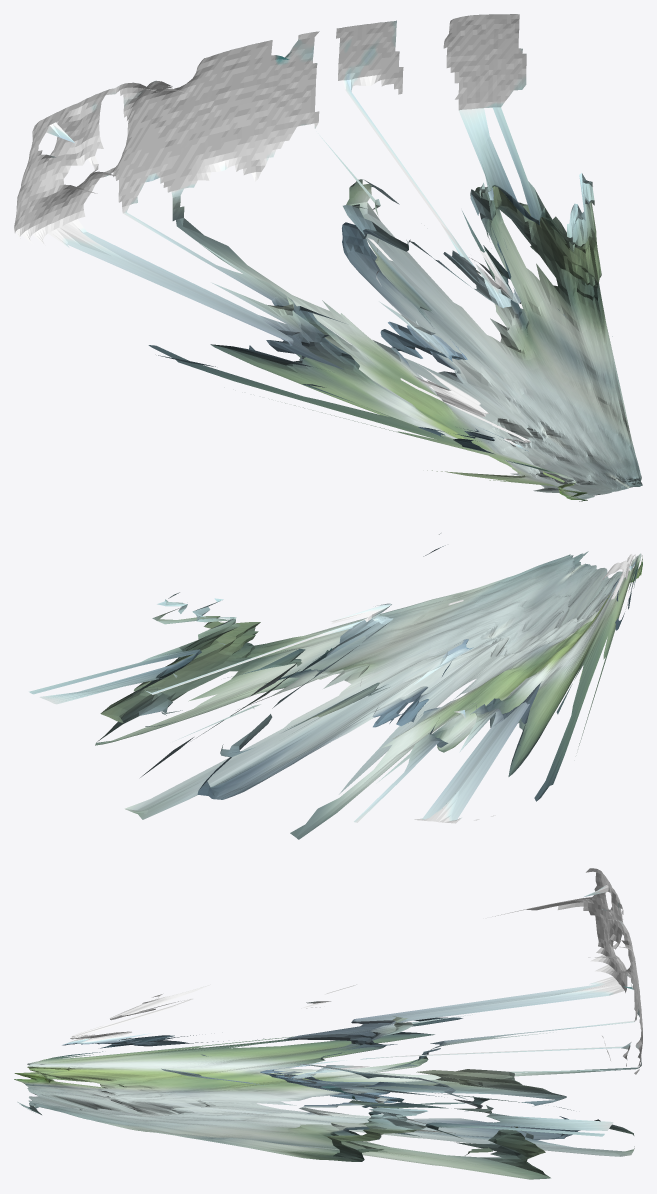
3 views of the same model, one above another, from view 1: azimuth 30°, elevation 25°; view 2: azimuth 150°, elevation 25°; view 3: azimuth 270°, elevation 25° (orthographic). The views are drawn at different scales.
Parts seen in each view (by area): view 1: defaultobject; view 2: defaultobject; view 3: defaultobject.
Part boxes in pixels (bbox=[...]): defaultobject: bbox=[14, 14, 642, 501]; defaultobject: bbox=[29, 533, 642, 839]; defaultobject: bbox=[14, 868, 642, 1179].
Size of the model in its own units: 34.83 by 13.93 by 45.36.
Materials: 1 (1 with a texture image).
